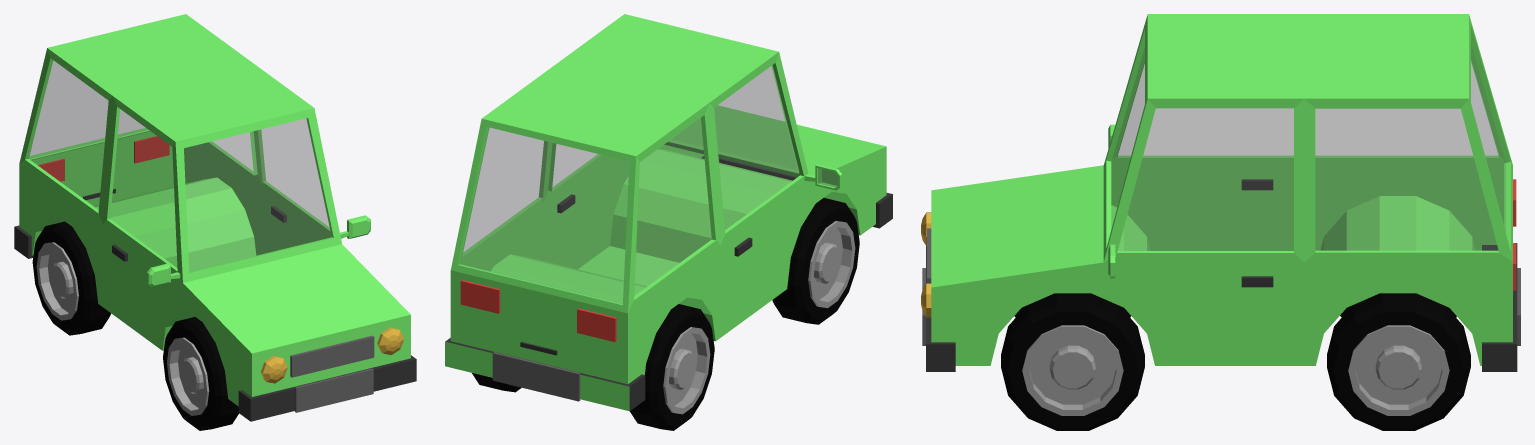
The model's file is car_green.gltf.
The picture shows the model from 3 angles, left to right: view 1: azimuth 30°, elevation 25°; view 2: azimuth 150°, elevation 25°; view 3: azimuth 270°, elevation 25°; orthographic projection. The views are drawn at different scales.
Visible parts, largest first — view 1: Plane, Cylinder; view 2: Plane, Cylinder; view 3: Plane, Cylinder.
Boxes of the visible parts, x1,y1,x2,y2 form: Plane: [14, 14, 416, 421]; Cylinder: [32, 221, 238, 430]; Plane: [445, 14, 892, 411]; Cylinder: [472, 198, 859, 430]; Plane: [921, 14, 1520, 371]; Cylinder: [1001, 293, 1470, 430].
Size of the model in its own units: 2.23 by 2.49 by 4.16.
